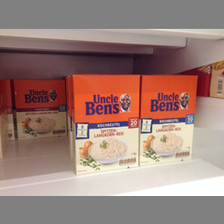rice: (71, 74, 142, 174), (141, 74, 198, 165), (14, 78, 66, 139)
